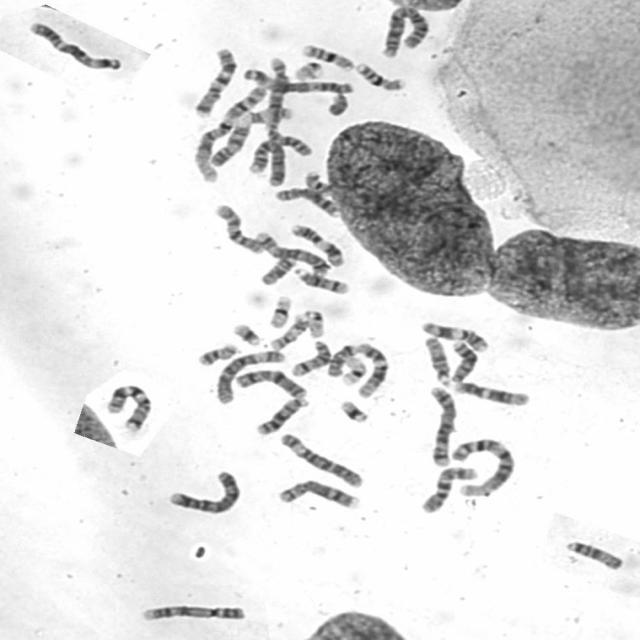A1: (191, 82, 269, 185), (448, 434, 517, 498)
A2: (262, 54, 316, 159), (377, 4, 431, 59)
A3: (26, 20, 123, 73), (239, 65, 354, 95)
B4: (164, 467, 242, 515), (244, 135, 288, 187)
B5: (252, 230, 332, 276), (424, 384, 458, 467)
C10: (417, 464, 480, 514), (210, 201, 265, 255)
C11: (288, 220, 346, 268), (418, 318, 490, 353)
C12: (452, 378, 530, 406), (356, 342, 389, 400)
C6: (277, 430, 365, 488), (214, 347, 288, 405)
C7: (190, 45, 240, 118), (103, 382, 153, 434)
C8: (274, 478, 361, 510), (272, 184, 342, 219)
C9: (136, 601, 250, 623), (207, 119, 253, 167)
D13: (252, 395, 310, 436), (447, 339, 479, 383)
D14: (287, 337, 333, 378), (291, 265, 350, 295)
D15: (563, 538, 625, 571), (421, 334, 453, 387)
E16: (352, 59, 408, 92), (298, 41, 356, 72)
E17: (266, 315, 310, 352), (239, 104, 296, 124)
E18: (257, 254, 298, 286), (324, 342, 356, 378)
F19: (338, 354, 369, 388), (266, 292, 294, 329)
F20: (195, 341, 241, 367), (302, 169, 335, 198)
G21: (336, 397, 372, 424), (230, 321, 263, 346)
G22: (295, 307, 326, 338), (290, 58, 326, 82)
X: (231, 366, 309, 400)
Y: (324, 91, 351, 117)
